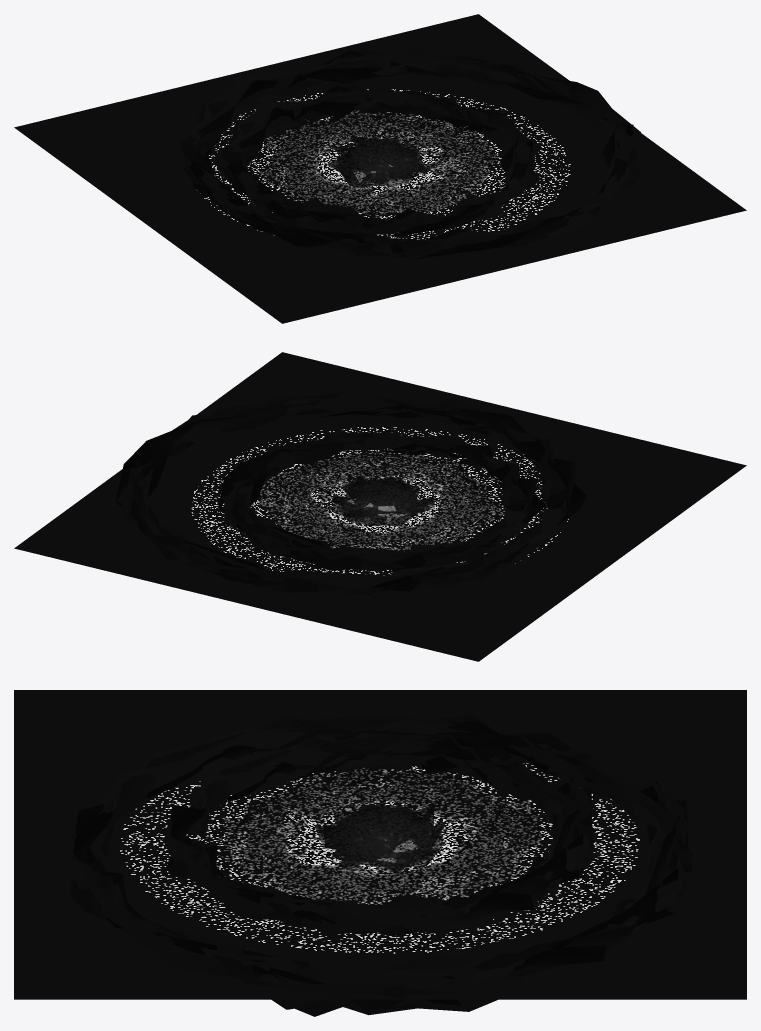
File: andromeda-v2.obj
3 views of the same model, one above another, from view 1: azimuth 30°, elevation 25°; view 2: azimuth 150°, elevation 25°; view 3: azimuth 270°, elevation 25° (orthographic). The views are drawn at different scales.
Parts seen in each view (by area): view 1: Stars, Outer_arm, Arm_2, Arm_1, Core; view 2: Stars, Outer_arm, Arm_2, Arm_1, Core; view 3: Stars, Outer_arm, Arm_2, Arm_1, Core.
Part boxes in pixels (x1,y1,x2,y2): Stars: [14, 14, 746, 323]; Outer_arm: [173, 48, 641, 259]; Arm_2: [214, 83, 540, 236]; Arm_1: [258, 105, 496, 217]; Core: [327, 136, 436, 188]; Stars: [14, 352, 746, 661]; Outer_arm: [115, 392, 586, 596]; Arm_2: [218, 431, 545, 571]; Arm_1: [258, 450, 506, 551]; Core: [328, 475, 434, 525]; Stars: [14, 690, 746, 999]; Outer_arm: [65, 715, 693, 1016]; Arm_2: [163, 733, 595, 935]; Arm_1: [222, 765, 542, 905]; Core: [315, 799, 446, 872].
Size of the model in its own units: 30 by 2.97 by 30.
